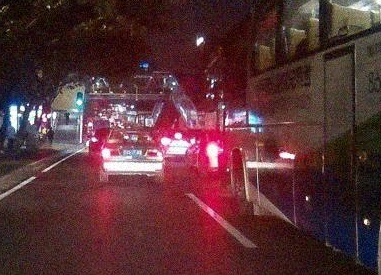L_light: (101, 148, 120, 158)
R_light: (146, 148, 163, 158)
T_light: (127, 133, 137, 136)
night-left: (100, 131, 164, 184)
